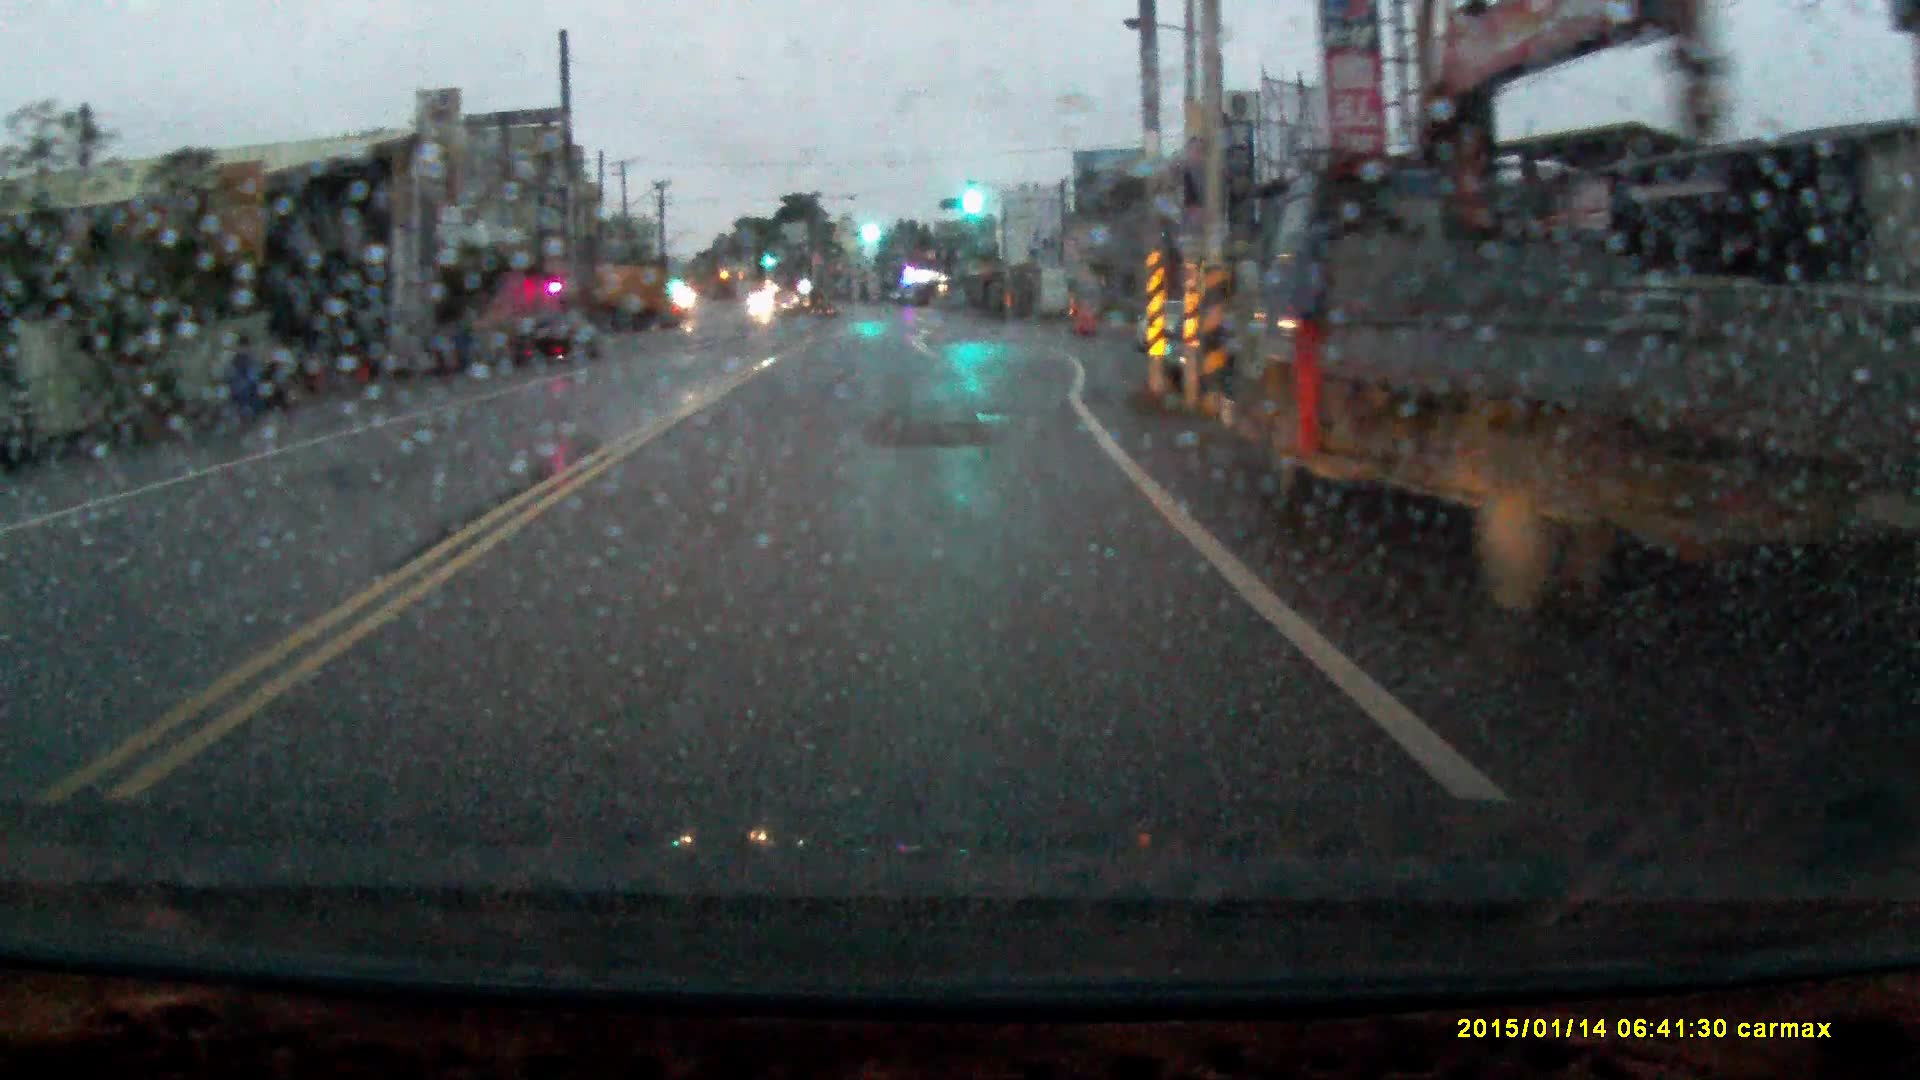vehicle: (1240, 175, 1920, 640), (568, 257, 674, 330), (518, 307, 599, 360)
